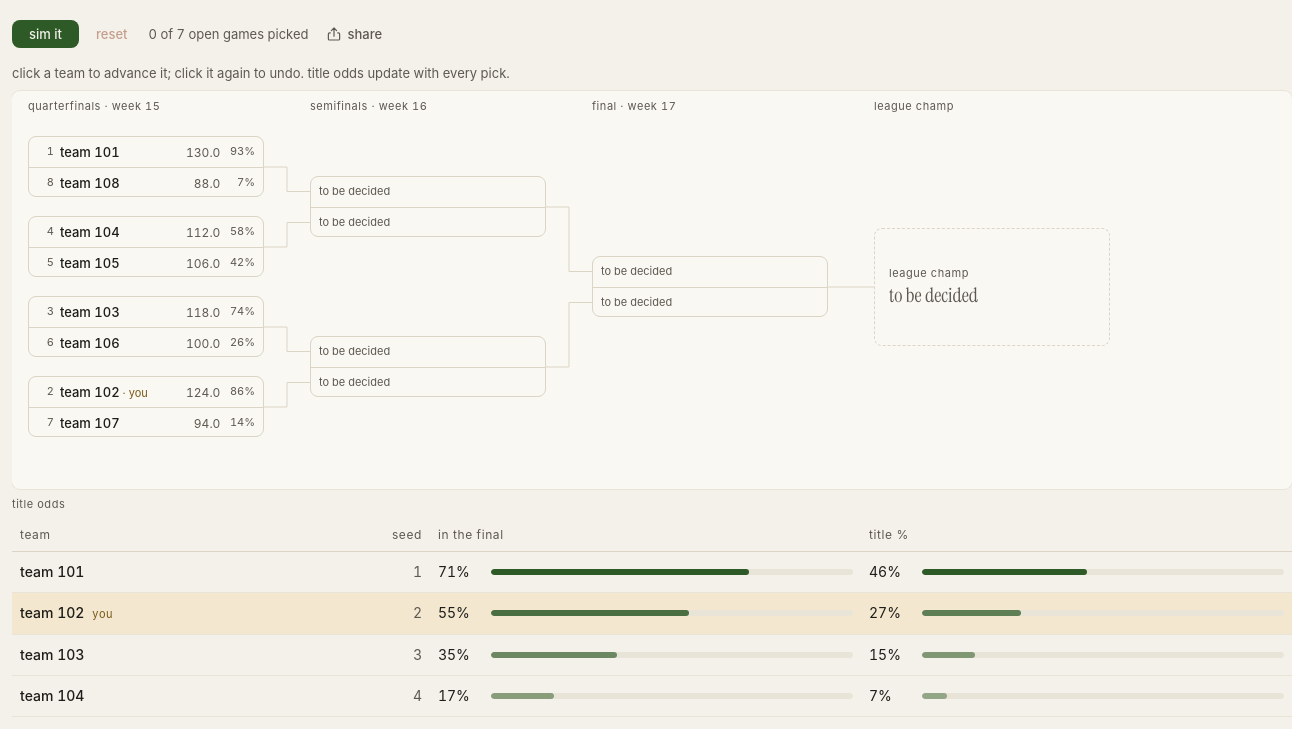
Scenario: Bracket: click to advance › title odds update live after a pick, exactly, and add to 100%
This screenshot has width=1292, height=729.
Expected: the text "Team 101" is shown, [20,563,84,580]
Click the button "8 Team 108 88.0 7%" at (146, 183), box [29,168,263,198]
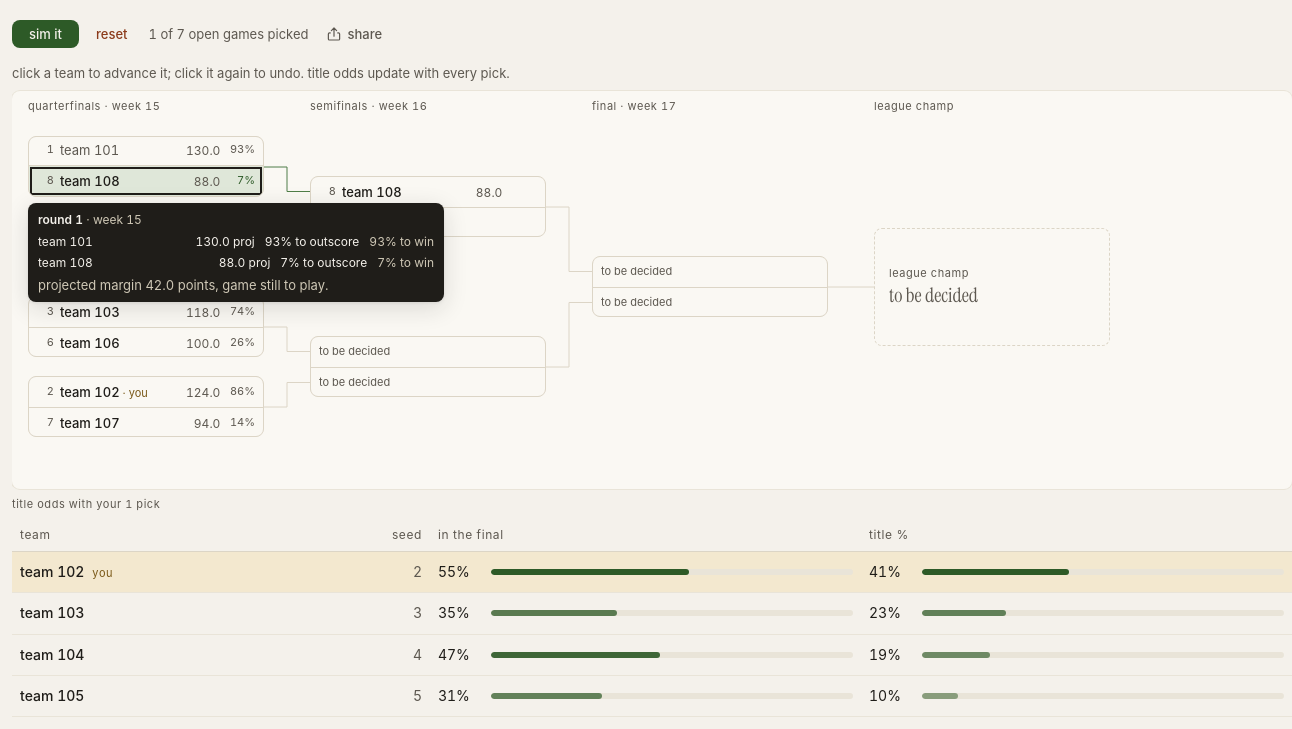
Expected: the text "title odds with your 1 pick" is shown, [12,497,160,511]
